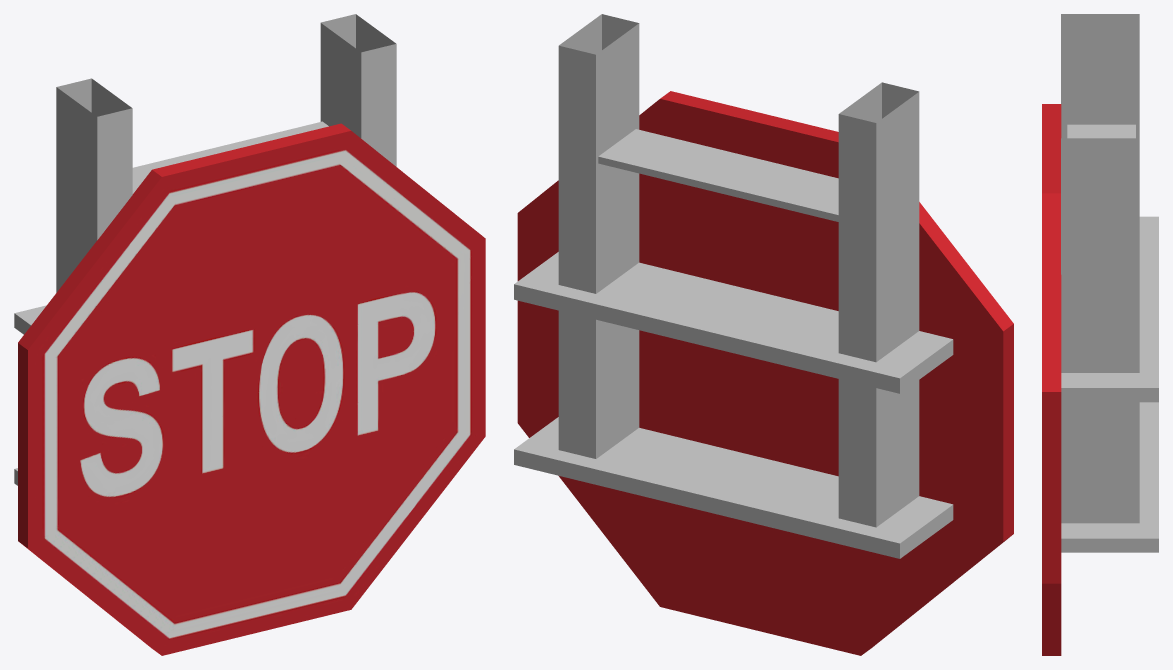
The model's file is SM_Sign_B.fbx.
3 renders of one model, left to right at view 1: azimuth 30°, elevation 25°; view 2: azimuth 150°, elevation 25°; view 3: azimuth 270°, elevation 25°, orthographic. The views are drawn at different scales.
Visible parts, largest first — view 1: SM_SignB, SM_Sign_B; view 2: SM_Sign_B, SM_SignB; view 3: SM_Sign_B, SM_SignB.
Boxes of the visible parts, x1,y1,x2,y2 form: SM_SignB: (18, 123, 485, 655); SM_Sign_B: (14, 14, 396, 485); SM_Sign_B: (514, 14, 953, 558); SM_SignB: (517, 91, 1013, 655); SM_Sign_B: (1061, 14, 1158, 552); SM_SignB: (1042, 104, 1061, 655).
Size of the model in its own units: 86.37 by 98.34 by 19.75.
